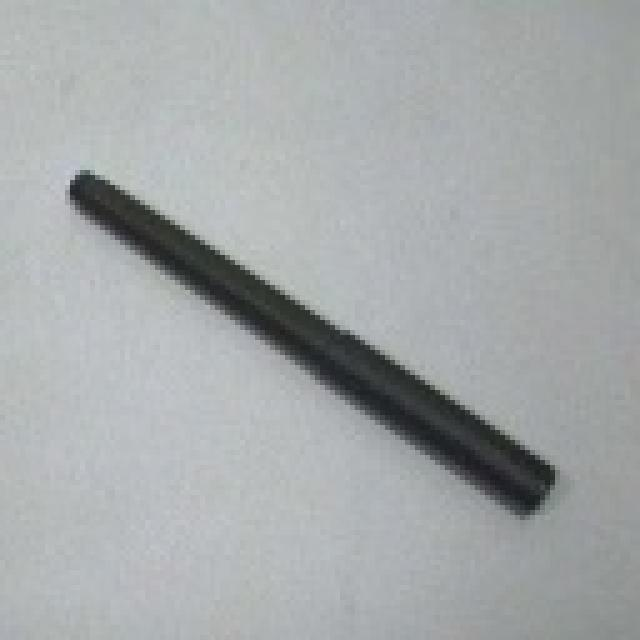pen: (64, 170, 570, 523)
